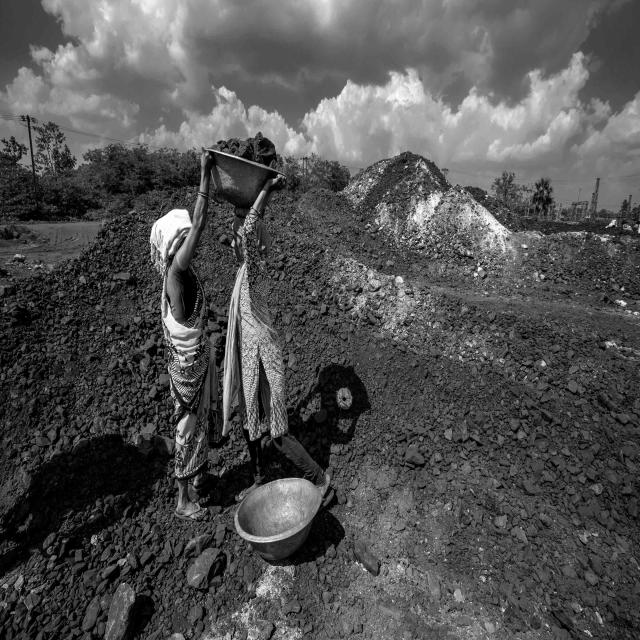person: (143, 152, 221, 524), (220, 149, 302, 486)
